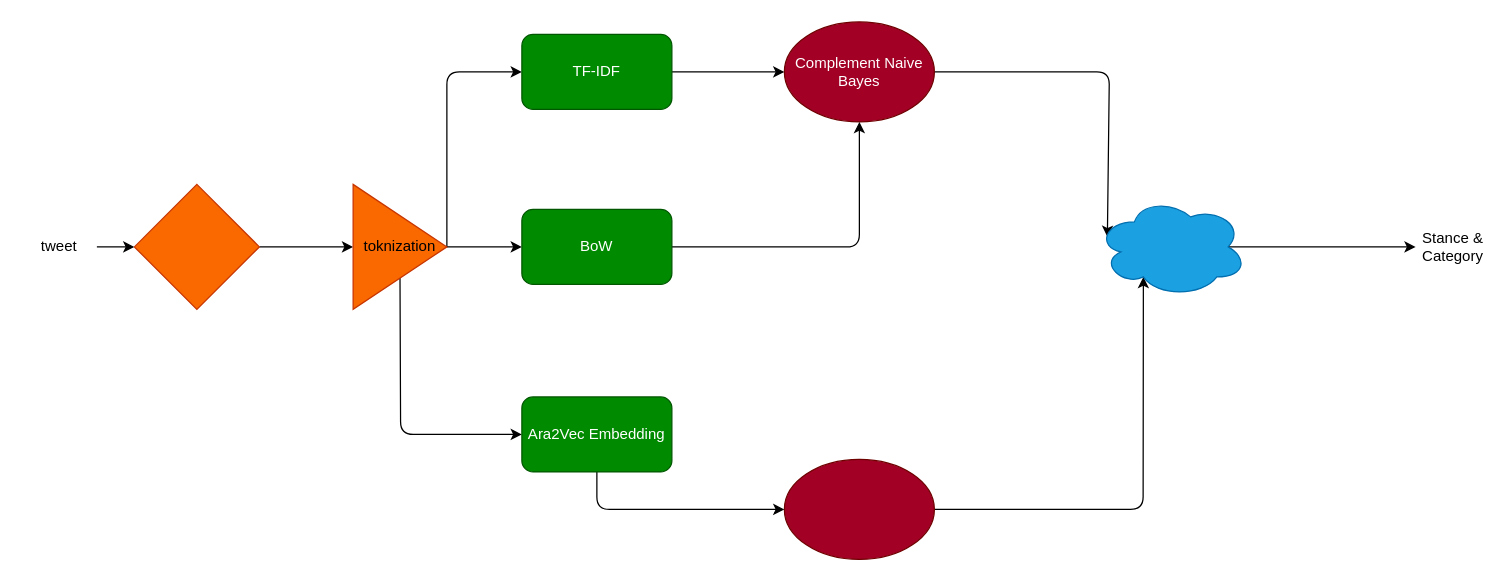
This 1511x581 diagram has some shape labels left out. The centre of each missing label's shape, as x and y in pixels:
GRU: point (858, 508)
process post: point (196, 246)
voting: point (1171, 246)
